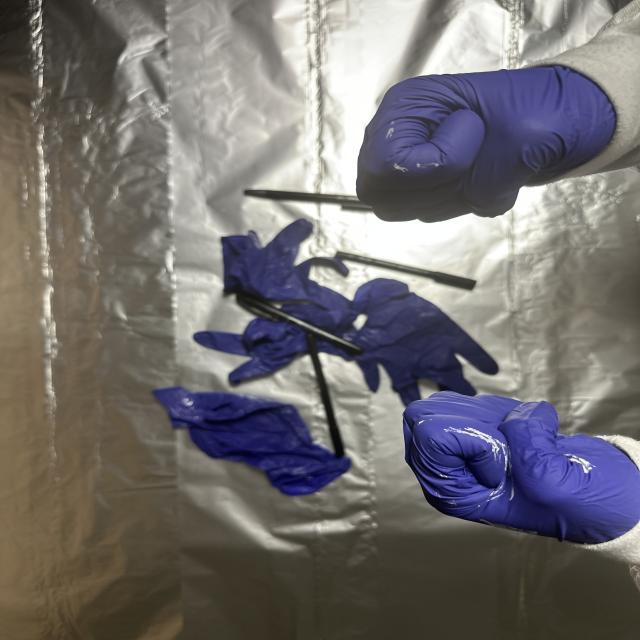gloves_contaminated: (356, 66, 616, 222), (404, 392, 640, 547)
